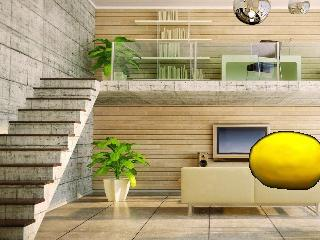lemon: (250, 132, 320, 191)
